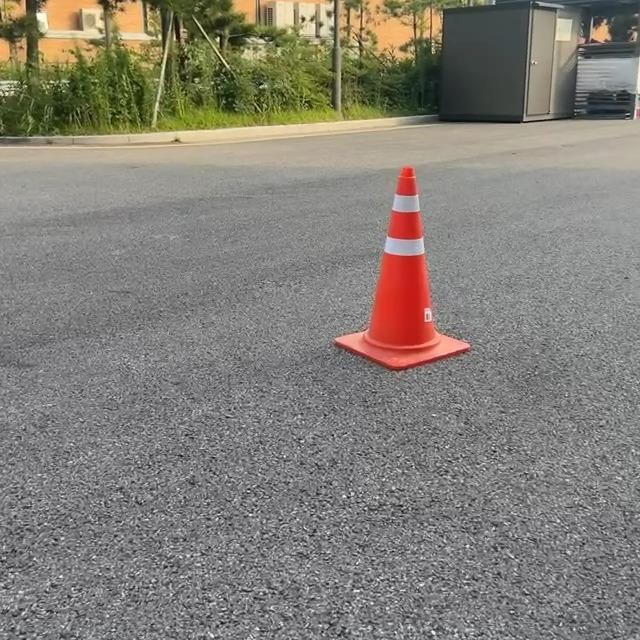fallen_object: (306, 135, 506, 365)
